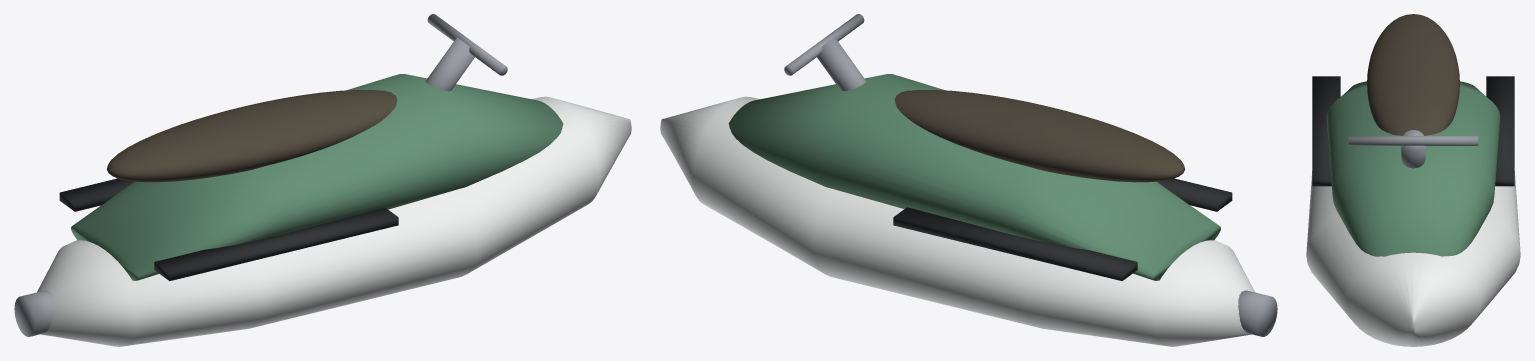
The model's file is jetski.glb.
3 renders of one model, left to right at view 1: azimuth 30°, elevation 25°; view 2: azimuth 150°, elevation 25°; view 3: azimuth 270°, elevation 25°, orthographic. The views are drawn at different scales.
Parts seen in each view (by area): view 1: SM_jetski; view 2: SM_jetski; view 3: SM_jetski.
Boxes of the visible parts, <box> form: SM_jetski: <box>14,14,631,346</box>; SM_jetski: <box>660,14,1277,346</box>; SM_jetski: <box>1306,14,1520,346</box>.
Bounding box in the file's own units: 3.17 × 1.08 × 1.06.
